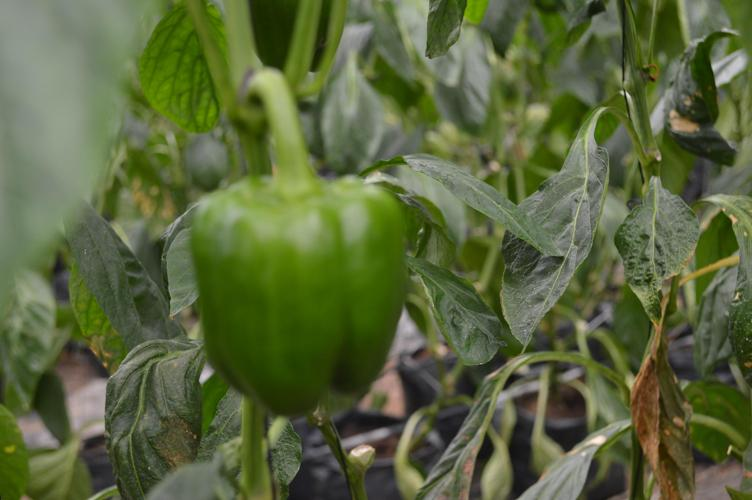BellPepper: (191, 179, 407, 414)
